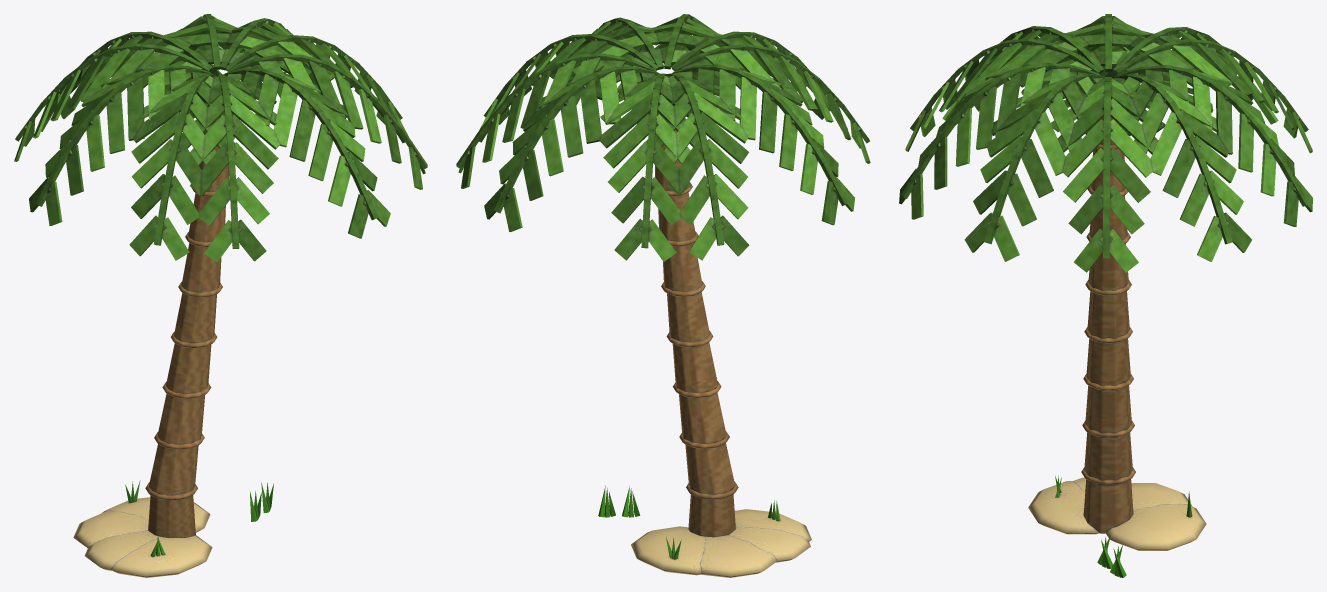
File: date_palm.glb
3 views of the same model, side by side, from view 1: azimuth 30°, elevation 25°; view 2: azimuth 150°, elevation 25°; view 3: azimuth 270°, elevation 25° (orthographic). The views are drawn at different scales.
Parts seen in each view (by area): view 1: crown, date_palm; view 2: crown, date_palm; view 3: crown, date_palm.
Part boxes in pixels (<box>): crown: <box>14,14,427,537</box>; date_palm: <box>73,480,273,577</box>; crown: <box>456,14,870,537</box>; date_palm: <box>598,485,811,577</box>; crown: <box>899,14,1312,533</box>; date_palm: <box>1028,475,1206,577</box>.
Bounding box in the file's own units: 1.17 × 1.49 × 1.11.
Materials: 1 (1 with a texture image).
